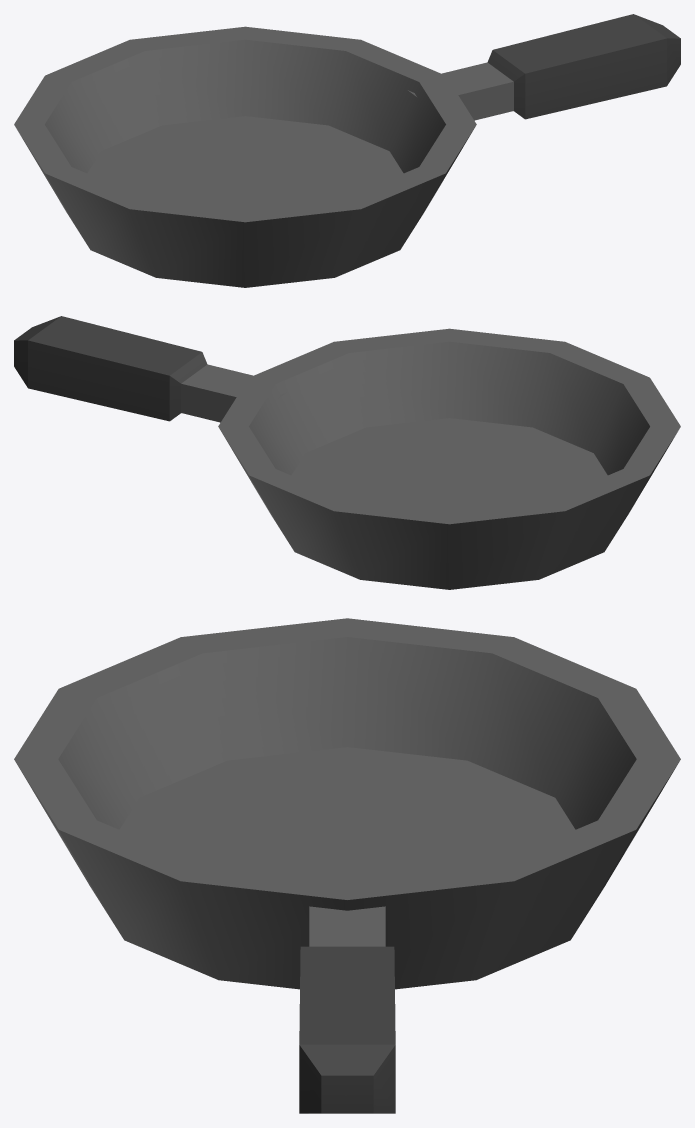
File: Frypan.fbx
The picture shows the model from 3 angles, top to bottom: view 1: azimuth 30°, elevation 25°; view 2: azimuth 150°, elevation 25°; view 3: azimuth 270°, elevation 25°; orthographic projection. The views are drawn at different scales.
Parts seen in each view (by area): view 1: Frypan; view 2: Frypan; view 3: Frypan.
Part boxes in pixels (x1=…): Frypan: x1=14, y1=14, x2=680, y2=287; Frypan: x1=14, y1=316, x2=680, y2=589; Frypan: x1=14, y1=618, x2=680, y2=1113.
Size of the model in its own units: 59.78 by 8.01 by 38.22.
